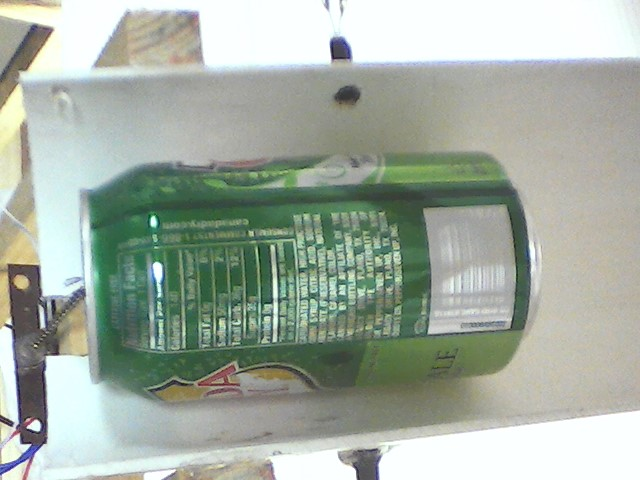lata: (75, 148, 548, 411)
